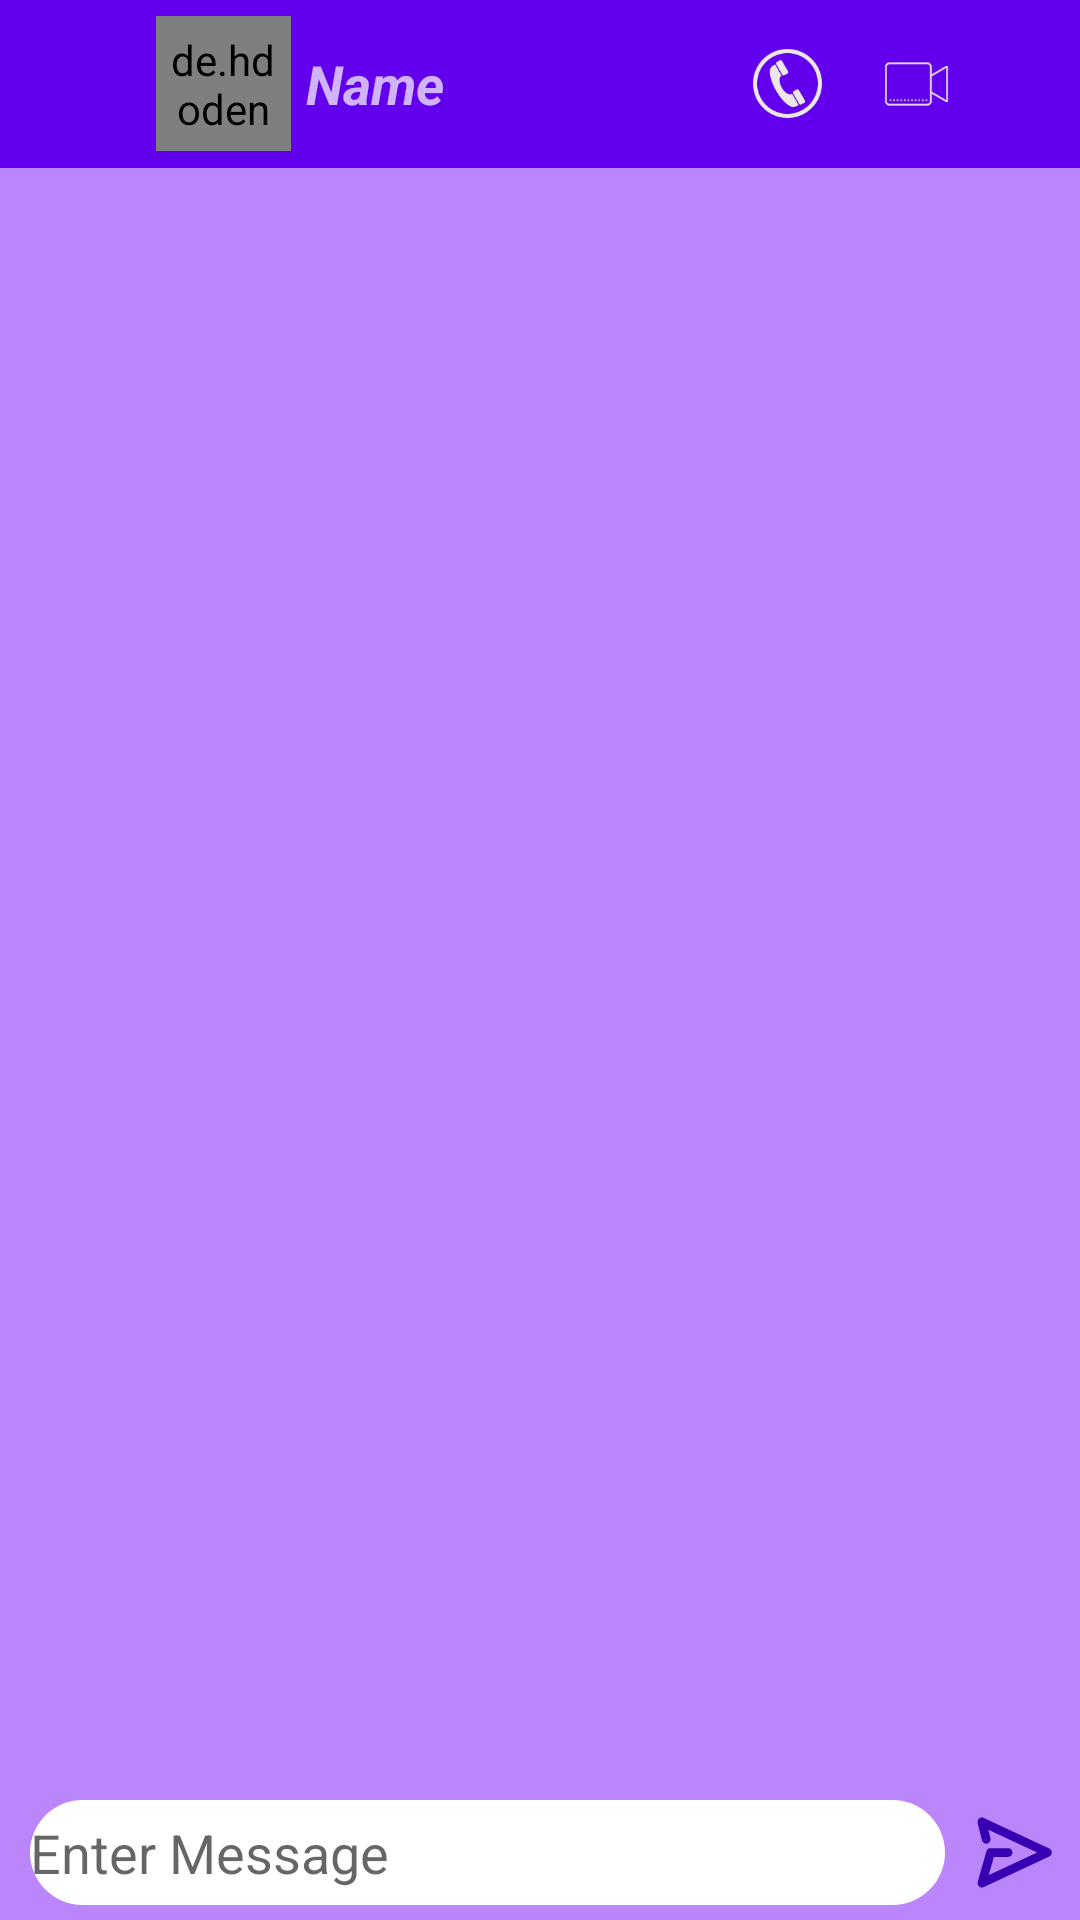

Named icons in this screenshot (1080px x 1920px) and their centers, [x,y]:
send: [1014,1852]
videocall: [916,84]
